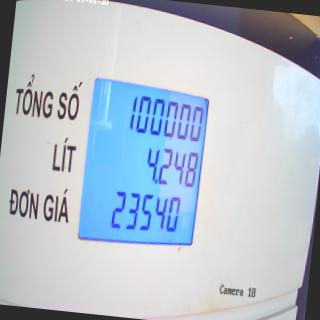screen: (75, 74, 212, 254)
